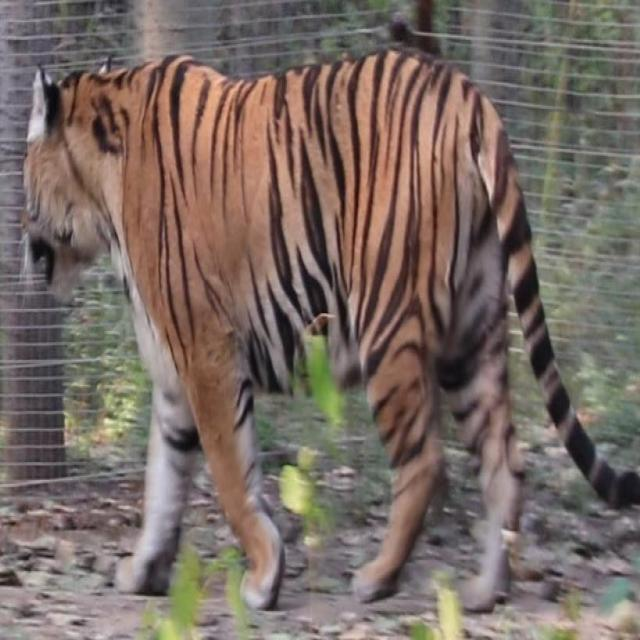TIGER: (21, 47, 634, 611)
